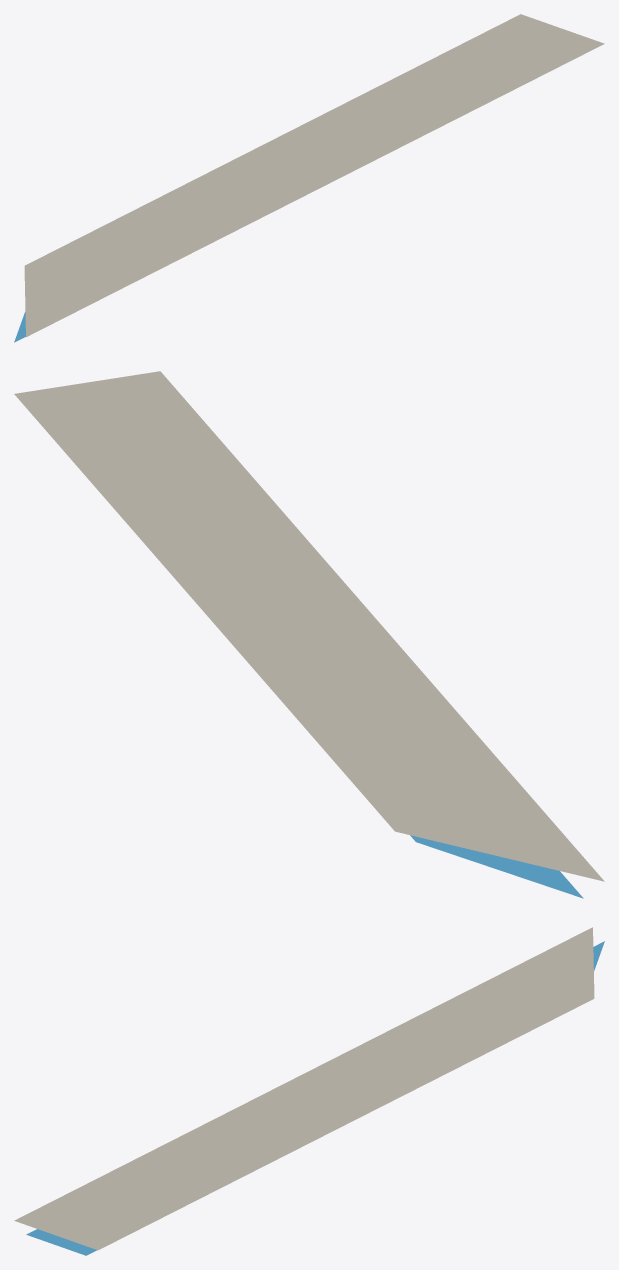
The picture shows the model from 3 angles, top to bottom: view 1: azimuth 90°, elevation 25°; view 2: azimuth 150°, elevation 25°; view 3: azimuth 270°, elevation 25°; orthographic projection. The views are drawn at different scales.
Visible parts, largest first — view 1: estructura_terreno; view 2: estructura_terreno, estructura_agua; view 3: estructura_terreno, estructura_agua.
Part boxes in pixels (box(x1,y1,x2,y2)): estructura_terreno: box(24, 14, 604, 337); estructura_terreno: box(14, 371, 604, 881); estructura_agua: box(410, 835, 583, 898); estructura_terreno: box(14, 927, 594, 1250); estructura_agua: box(26, 941, 604, 1255).
Size of the model in its own units: 29.31 by 0.41 by 22.64.
